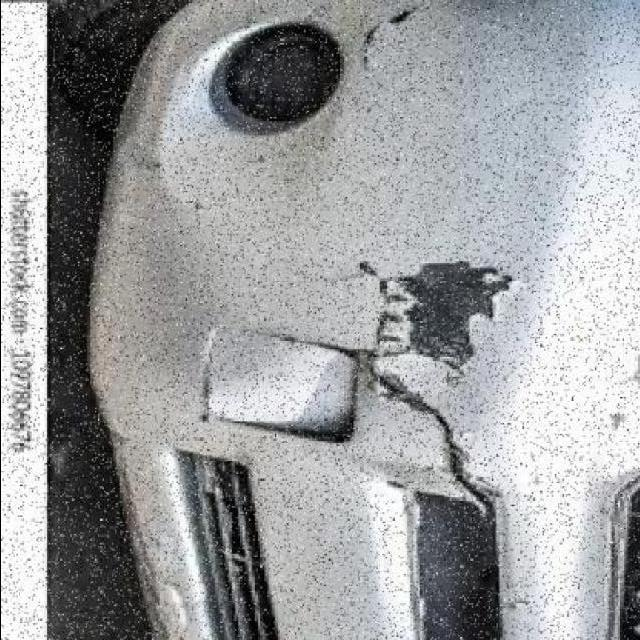front-bumper-dent: (96, 0, 640, 592)
